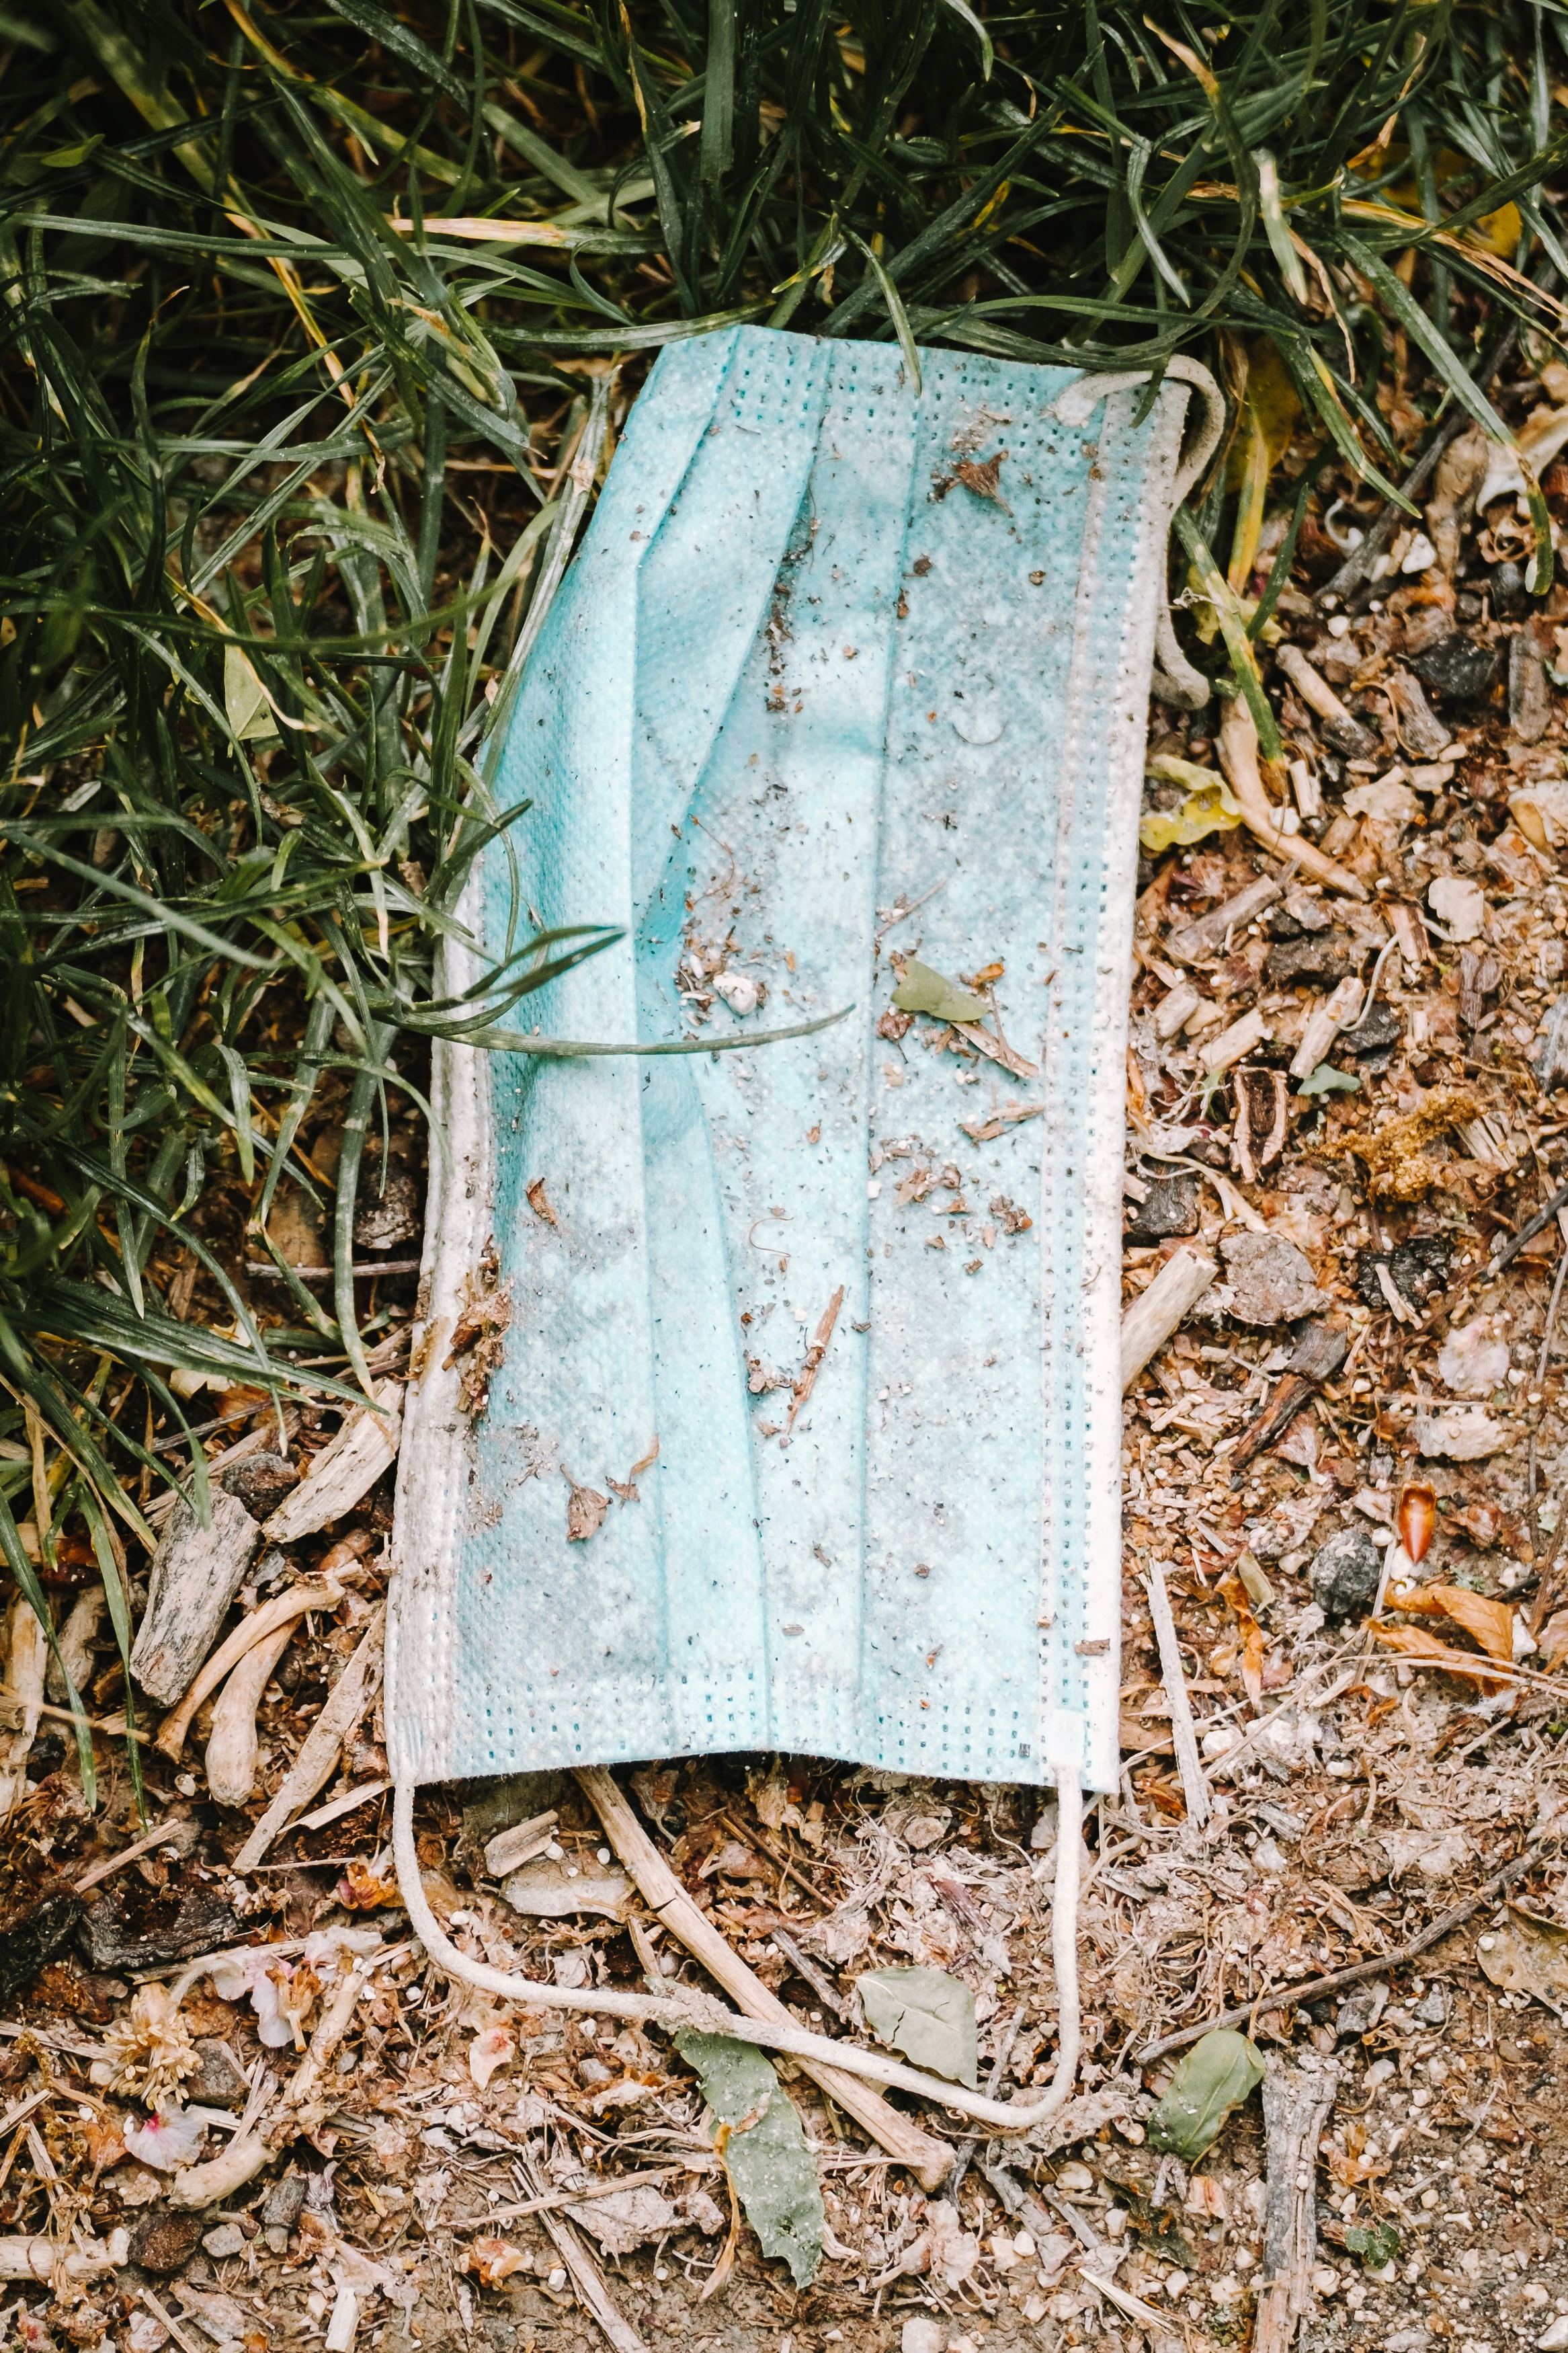mask: (450, 273, 1148, 2176)
